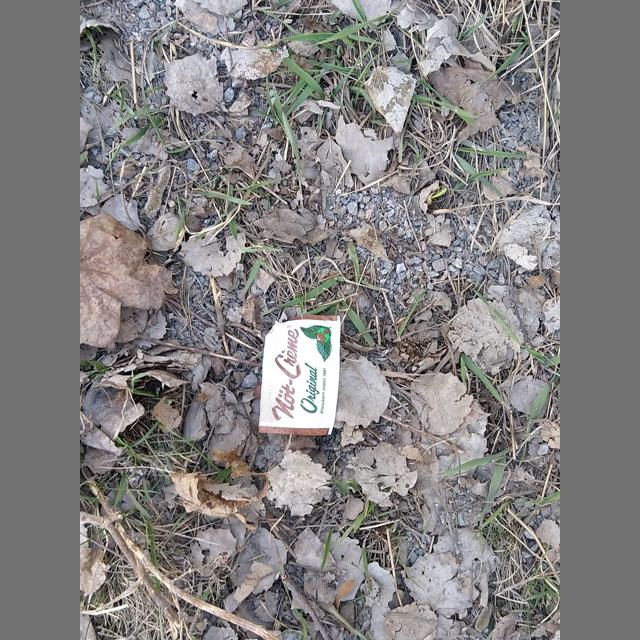litter: (260, 316, 341, 434)
